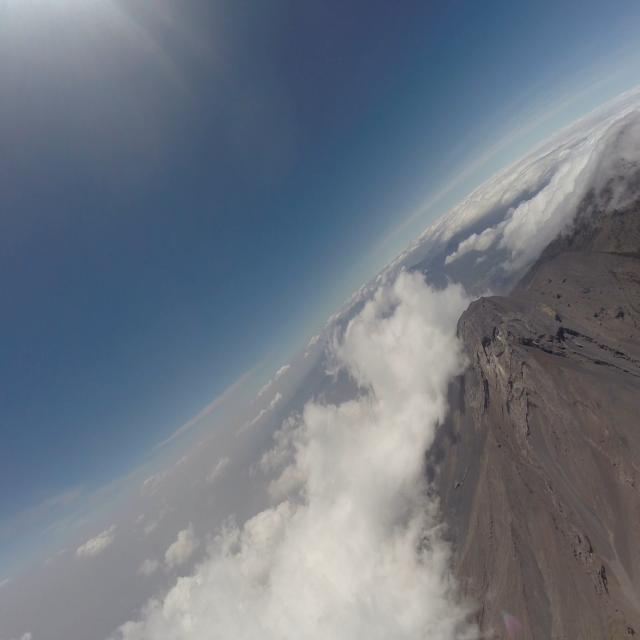Summit: (452, 290, 572, 432)
